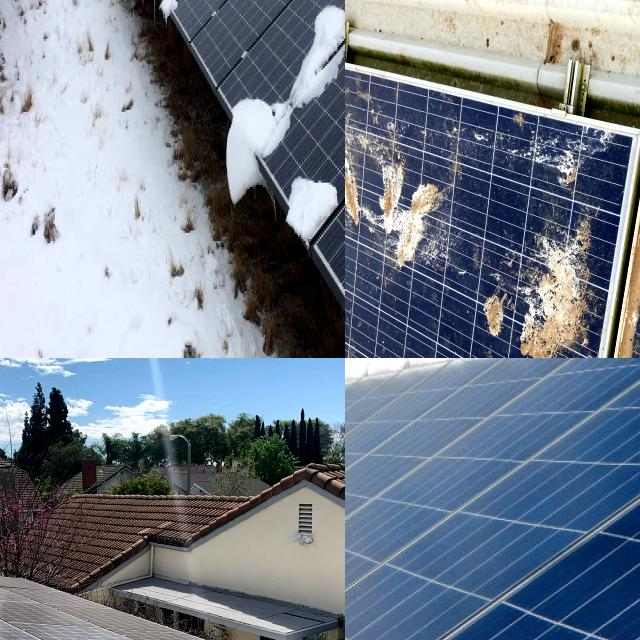bird: (514, 12, 640, 208), (362, 200, 448, 299), (451, 301, 569, 358), (458, 230, 539, 294), (577, 276, 632, 358)
panel: (279, 0, 345, 120), (220, 53, 285, 158), (481, 358, 624, 405), (287, 143, 345, 252), (358, 358, 474, 393), (156, 0, 221, 58), (127, 0, 220, 35), (345, 386, 403, 417), (345, 358, 404, 384)
